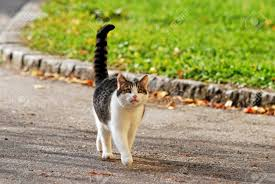cat: (92, 23, 149, 166)
